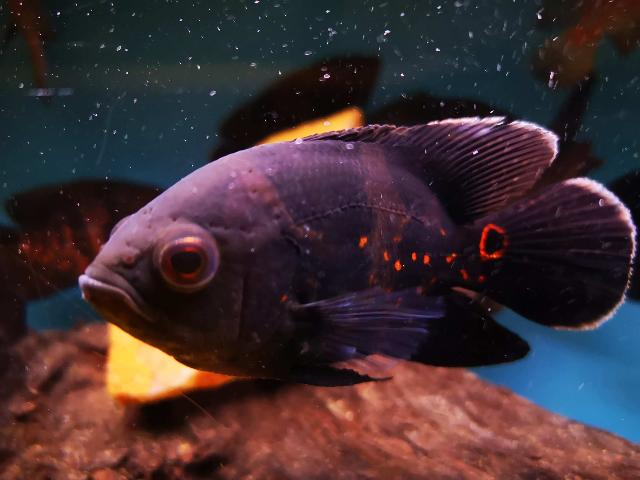Mulut: (70, 259, 138, 319)
Sirip Anal: (424, 283, 538, 369)
Sirip Dada: (302, 276, 442, 366)
Sirip Ekor: (491, 172, 639, 338)
Sirip Perut: (271, 356, 403, 404)
Sirip Punggung: (302, 106, 570, 224)
